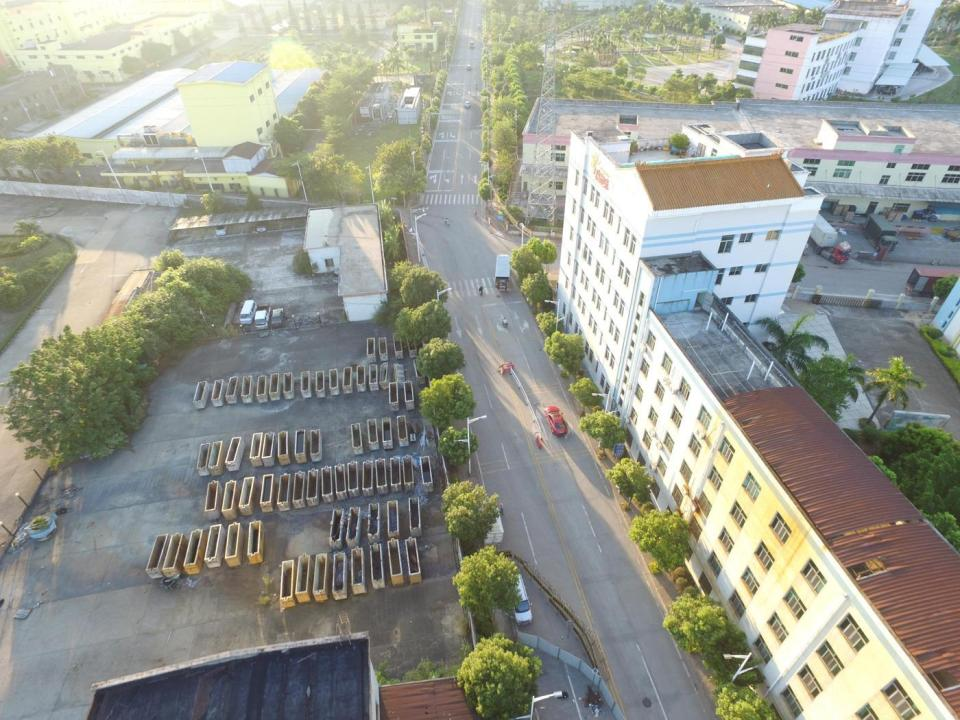car: (543, 404, 569, 438), (270, 307, 285, 329), (255, 216, 270, 233), (215, 221, 226, 236), (464, 100, 470, 109), (466, 63, 472, 71)
truck: (800, 206, 851, 264), (905, 266, 960, 298), (472, 497, 503, 548), (862, 212, 898, 254), (494, 252, 511, 292), (254, 301, 271, 331)
van: (504, 574, 533, 626), (239, 300, 258, 325)
